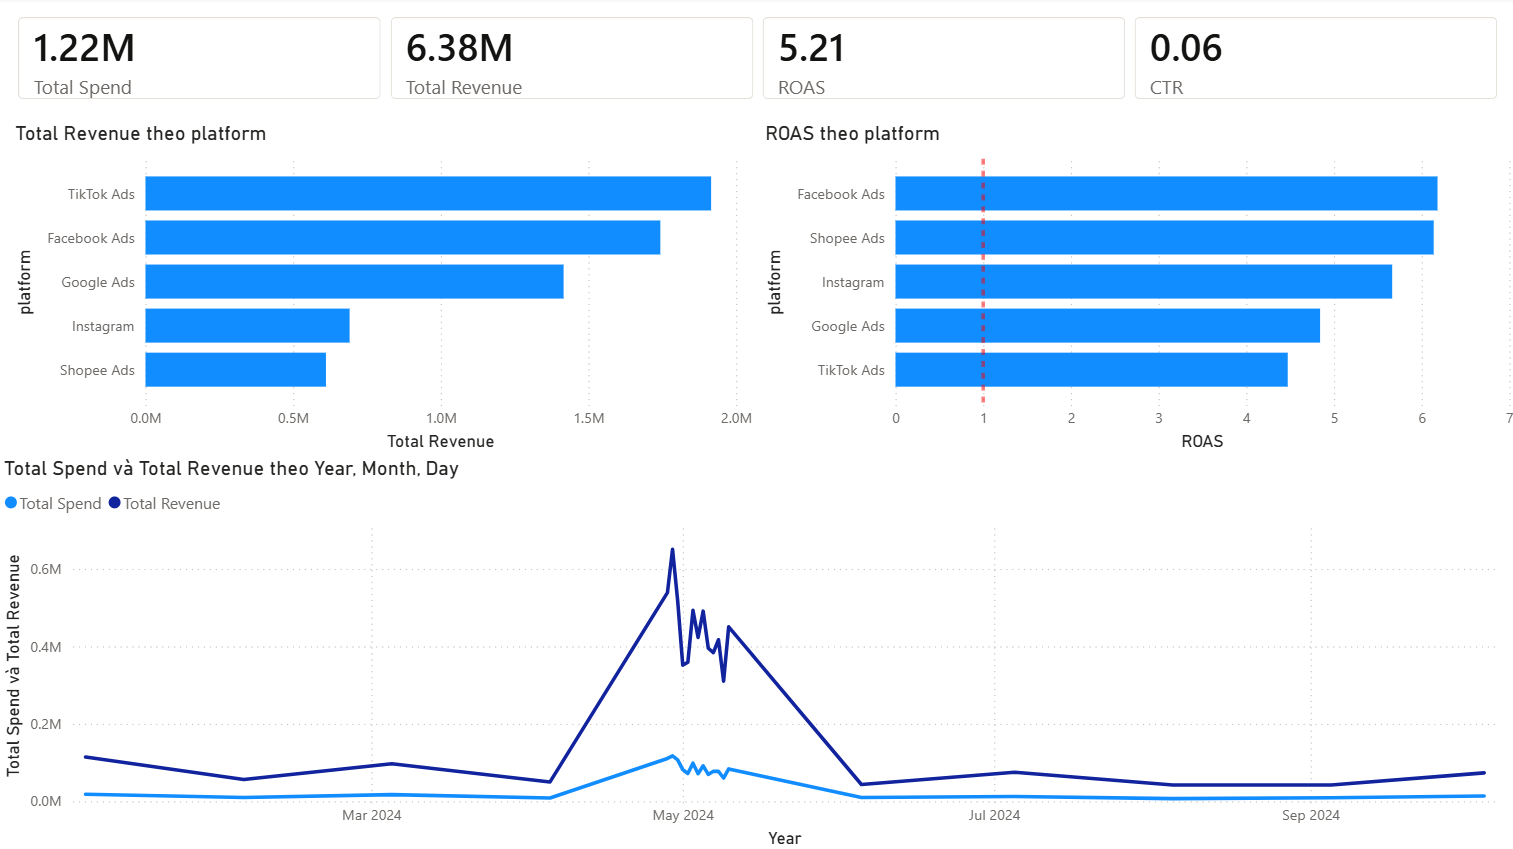

This screenshot's page, from the dashboard's own definition file:
{"tool":"powerbi","page":{"name":"Overview","canvas":[1280,720],"ordinal":0},"visuals":[{"type":"barChart","title":"Total Revenue theo platform","fields":{"Category":["cleaned_data.platform"],"Y":["cleaned_data.Total Revenue"]},"box":[9.6,103.7,630.6,282.5],"z":0},{"type":"cardVisual","fields":{"Data":["cleaned_data.Total Spend","cleaned_data.Total Revenue","cleaned_data.ROAS","cleaned_data.CTR"]},"box":[0,0,1280.3,103.7],"z":1000},{"type":"barChart","title":"ROAS theo platform","fields":{"Category":["cleaned_data.platform"],"Y":["cleaned_data.ROAS"]},"box":[640.1,103.7,640.1,282.5],"z":2000},{"type":"lineChart","title":"Total Spend và Total Revenue theo Year, Month, Day","fields":{"Y":["cleaned_data.Total Spend","cleaned_data.Total Revenue"],"Category":["cleaned_data.date.Variation.Date Hierarchy.Year","cleaned_data.date.Variation.Date Hierarchy.Month","cleaned_data.date.Variation.Date Hierarchy.Day"]},"box":[0,386.3,1280.3,334.4],"z":3000}]}

Visuals, with their boxes in screenshot pixels (x1, y1, x2, y2), scaled from the page's 1280x720 canvas onto the 1513x849 screenshot:
"Total Revenue theo platform" barChart: l=11, t=122, r=757, b=455
cardVisual - cleaned_data.Total Spend x cleaned_data.Total Revenue: l=0, t=0, r=1512, b=122
"ROAS theo platform" barChart: l=757, t=122, r=1512, b=455
"Total Spend và Total Revenue theo Year, Month, Day" lineChart: l=0, t=456, r=1512, b=848
